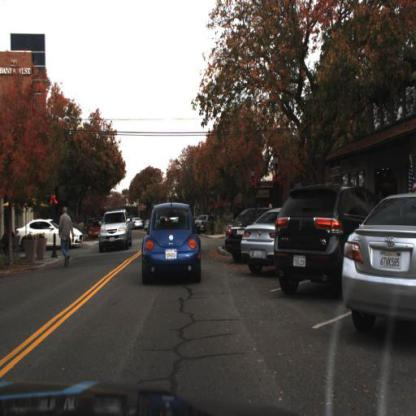car: (274, 185, 377, 296), (341, 192, 415, 337), (141, 199, 206, 285), (224, 202, 275, 262), (244, 206, 287, 276), (17, 216, 85, 252), (98, 208, 133, 252), (88, 217, 108, 242)
pedestrian: (59, 203, 80, 269)
